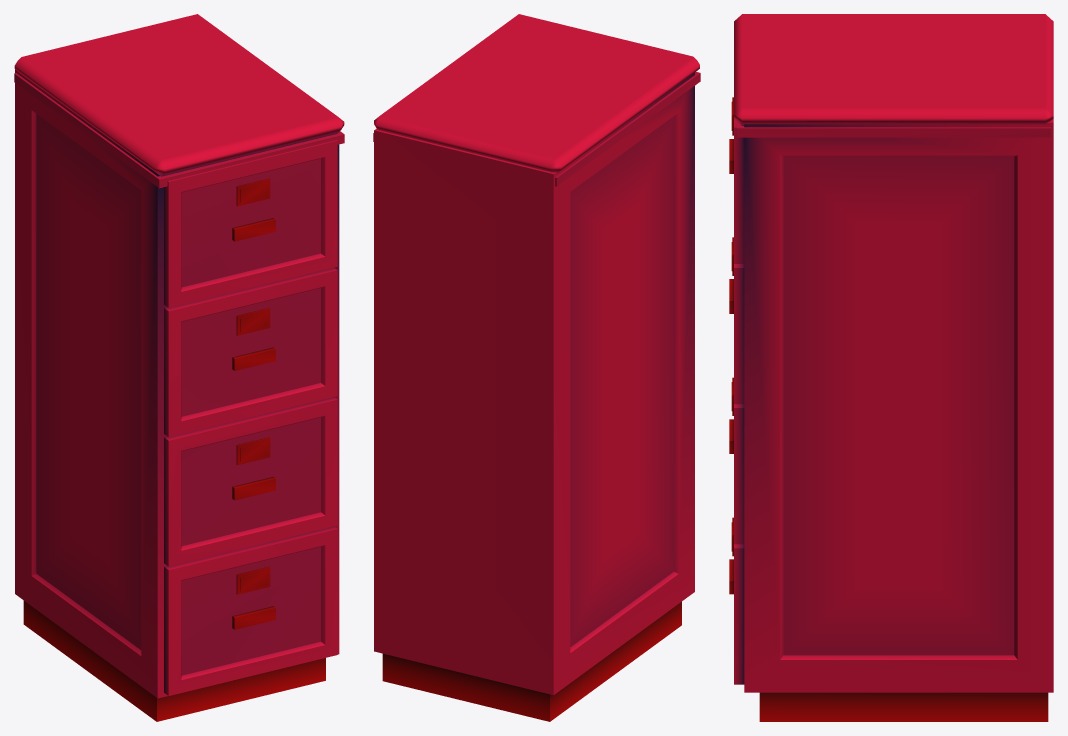
File: CI_Office_FilingCabinet.glb
The picture shows the model from 3 angles, left to right: view 1: azimuth 30°, elevation 25°; view 2: azimuth 150°, elevation 25°; view 3: azimuth 270°, elevation 25°; orthographic projection. The views are drawn at different scales.
Visible parts, largest first — view 1: CI_Office_FilingCabinet; view 2: CI_Office_FilingCabinet; view 3: CI_Office_FilingCabinet.
Part boxes in pixels (x1,y1,x2,y2): CI_Office_FilingCabinet: (14, 14, 344, 721); CI_Office_FilingCabinet: (373, 14, 700, 721); CI_Office_FilingCabinet: (729, 14, 1053, 721).
Size of the model in its own units: 0.46 by 1.32 by 0.629.
